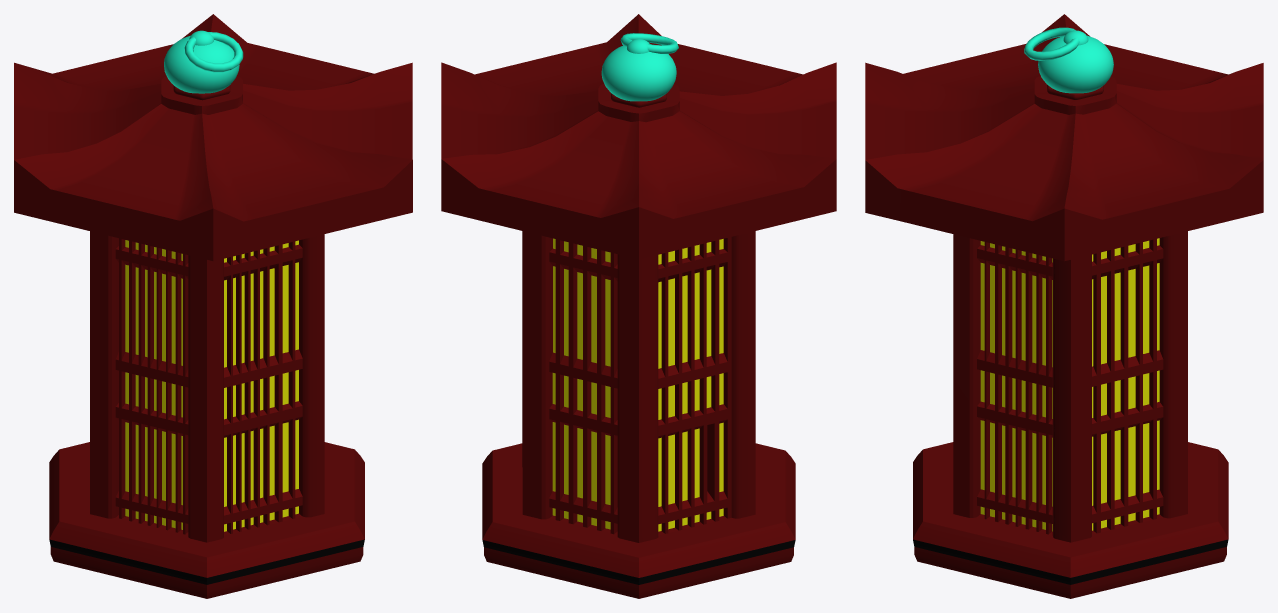
File: lanterne_sol_v1.FBX
3 views of the same model, side by side, from view 1: azimuth 30°, elevation 25°; view 2: azimuth 150°, elevation 25°; view 3: azimuth 270°, elevation 25° (orthographic).
Visible parts, largest first — view 1: Cylinder025, Cylinder026; view 2: Cylinder025, Cylinder026; view 3: Cylinder025, Cylinder026.
Part boxes in pixels (x1,y1,x2,y2): Cylinder025: (14, 14, 412, 598); Cylinder026: (164, 30, 243, 93); Cylinder025: (441, 14, 836, 598); Cylinder026: (601, 33, 678, 101); Cylinder025: (865, 14, 1263, 598); Cylinder026: (1024, 27, 1113, 93).
Size of the model in its own units: 42.47 by 49.96 by 36.78.
